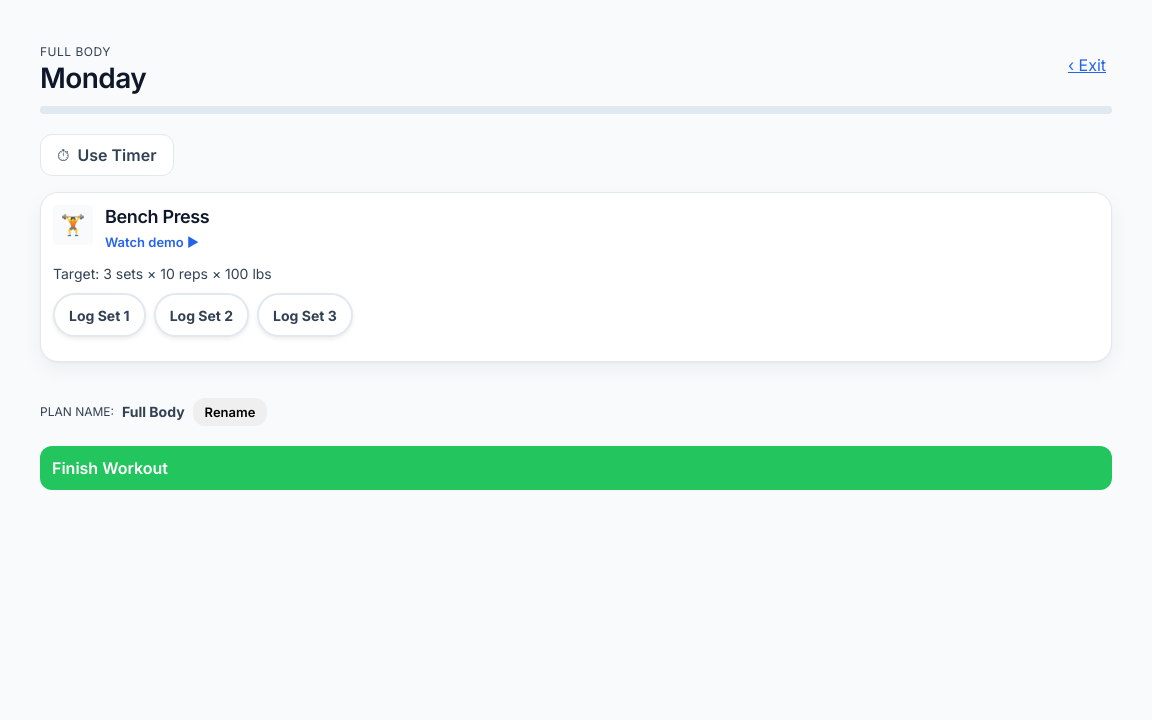
Test: ActiveWorkout › Standalone manual timer › expands to show the timer card when "Use Timer" is clicked
Click the button "⏱ Use Timer".
click(107, 155)  # box [40, 134, 174, 176]
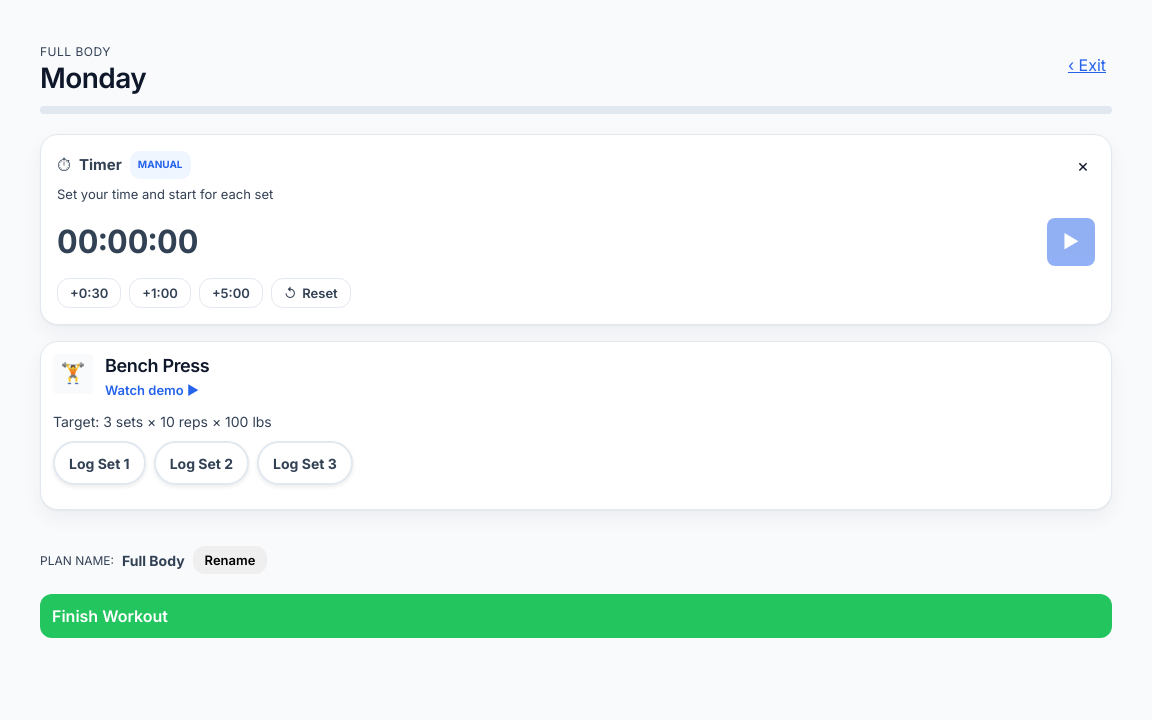
Expected: the text "00:00:00" is shown, [57, 230, 198, 253]
Expected: the button named "Start timer" is disabled, [1047, 218, 1095, 266]
